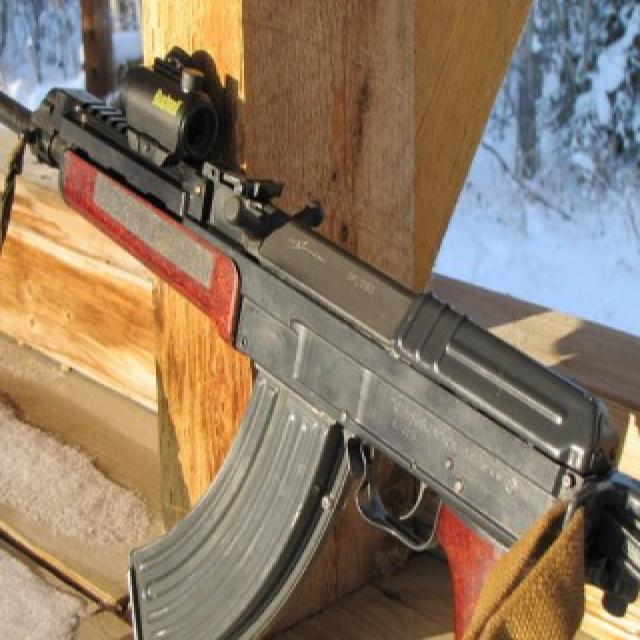rifle: (3, 50, 639, 639)
